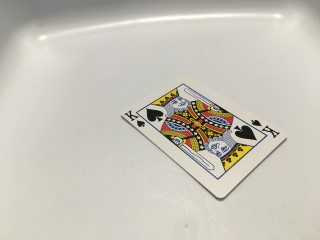KingOfSpades: (120, 77, 287, 199)
